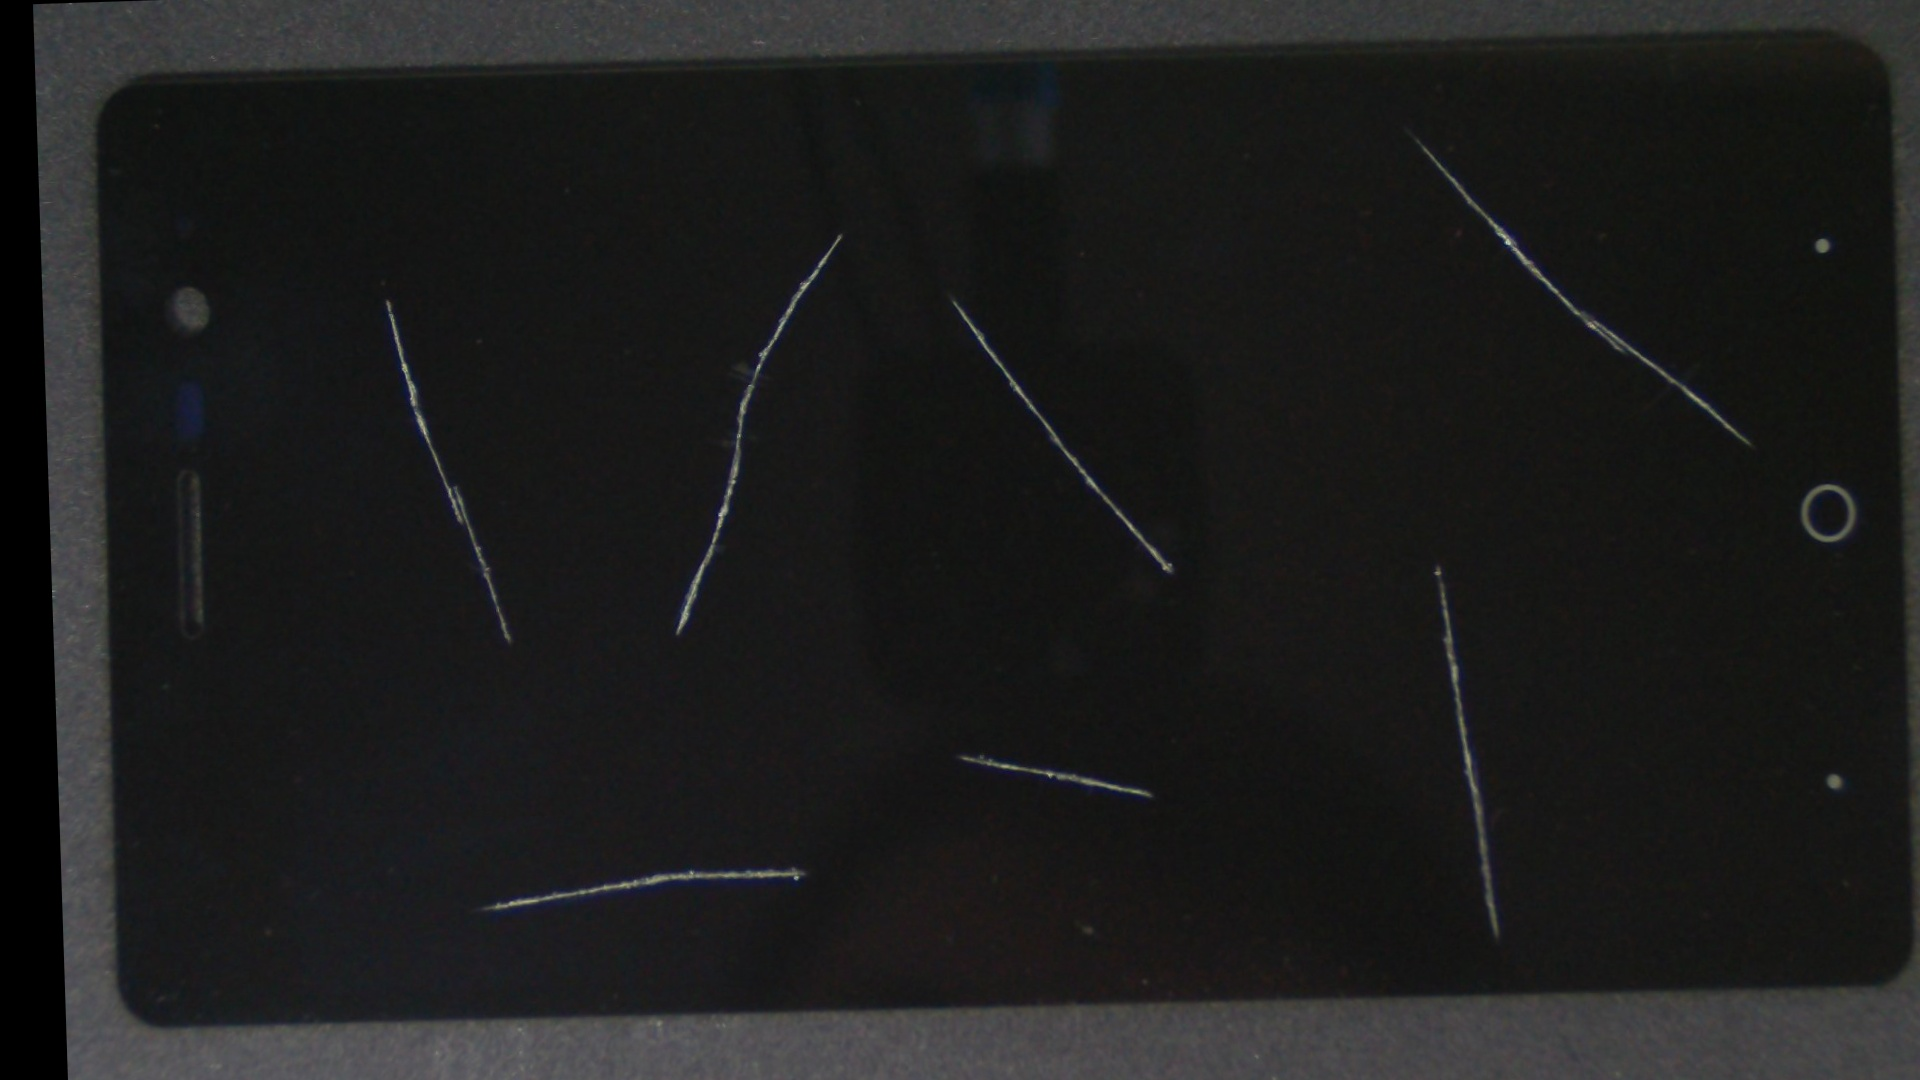oil: (736, 244, 1920, 890), (491, 348, 1414, 1080), (353, 417, 989, 1080), (492, 121, 1408, 475), (724, 30, 1920, 249), (438, 92, 1246, 373), (212, 140, 567, 456)
